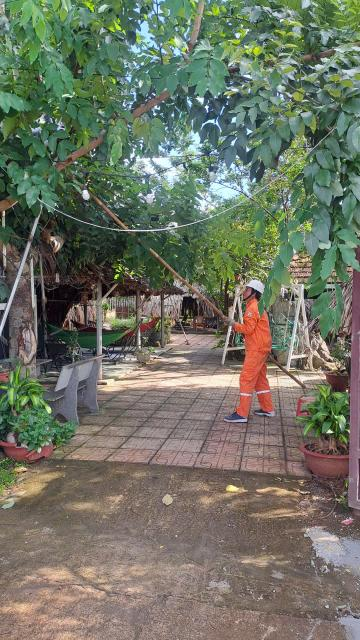gloves: (223, 316, 237, 328)
helmet: (242, 275, 269, 297)
shoes: (223, 409, 251, 422), (251, 406, 277, 417)
